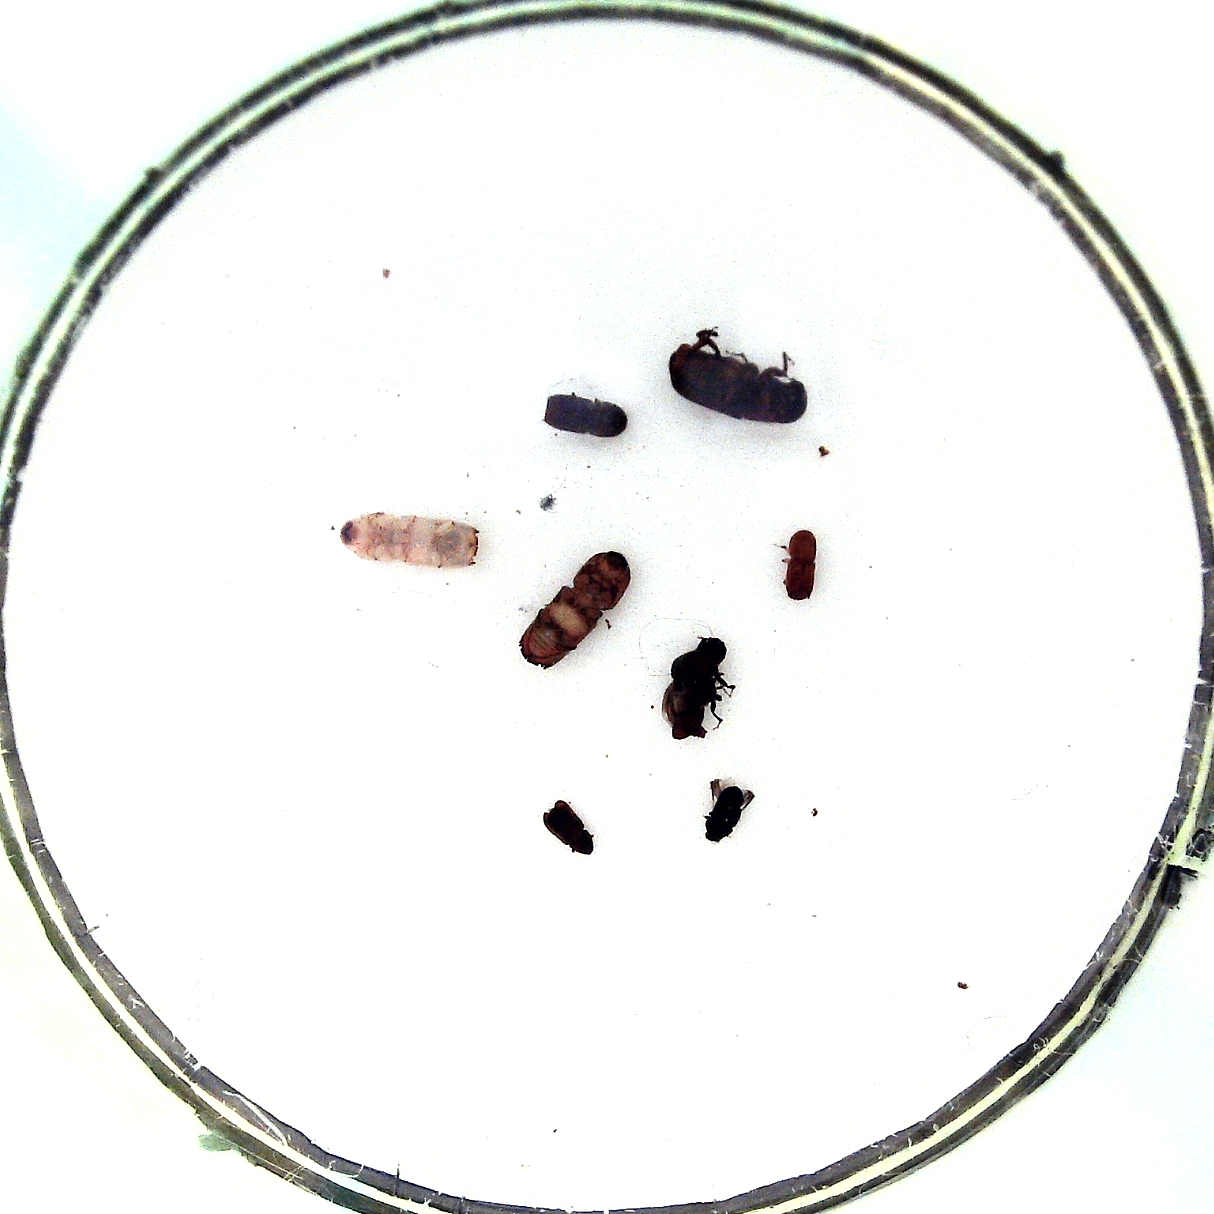Boerner: (518, 551, 631, 670), (340, 511, 480, 568)
Leconte: (668, 344, 808, 422)
acuminatus: (704, 786, 743, 842)
armandi: (663, 637, 728, 739)
coleoptera: (543, 800, 594, 856), (784, 530, 816, 601)
linnaeus: (543, 394, 627, 438)
